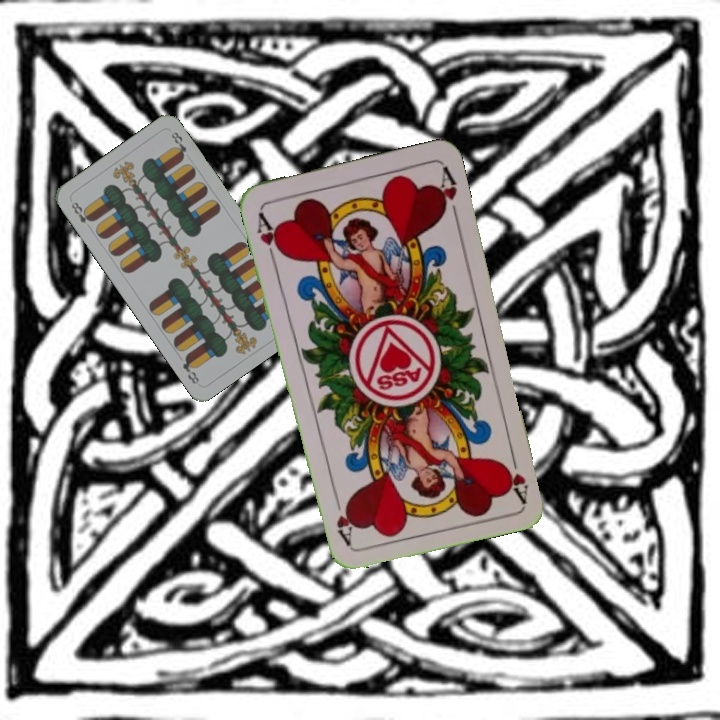E8: (67, 198, 96, 226)
HA: (498, 445, 531, 504), (252, 208, 286, 265)
